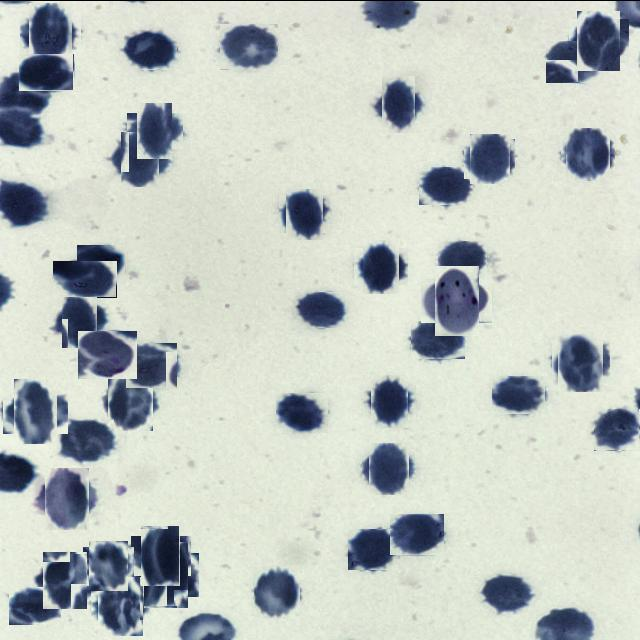red blood cell: (138, 546, 193, 602), (8, 383, 62, 438), (40, 470, 94, 524), (220, 23, 279, 69), (24, 6, 76, 58), (39, 554, 91, 606), (555, 336, 607, 388), (573, 14, 625, 66), (95, 579, 146, 631), (104, 378, 156, 428), (252, 566, 302, 616), (136, 530, 186, 580), (126, 342, 178, 388), (60, 418, 114, 462), (53, 260, 117, 297), (546, 40, 602, 82), (390, 513, 445, 555), (564, 130, 612, 178), (116, 136, 164, 182), (365, 445, 412, 491), (124, 29, 178, 69), (348, 528, 399, 570), (483, 572, 536, 612), (56, 296, 102, 342), (132, 107, 178, 153), (492, 375, 546, 414), (276, 392, 328, 432), (467, 135, 512, 181), (358, 243, 404, 288), (367, 377, 412, 423), (376, 81, 422, 126), (419, 166, 473, 204), (411, 320, 465, 358), (19, 53, 74, 90), (86, 543, 131, 588), (9, 586, 61, 624), (294, 291, 348, 327), (282, 191, 326, 235), (594, 408, 640, 450), (438, 240, 488, 278), (77, 244, 125, 282)
ring: (428, 271, 485, 329), (78, 330, 137, 378)
